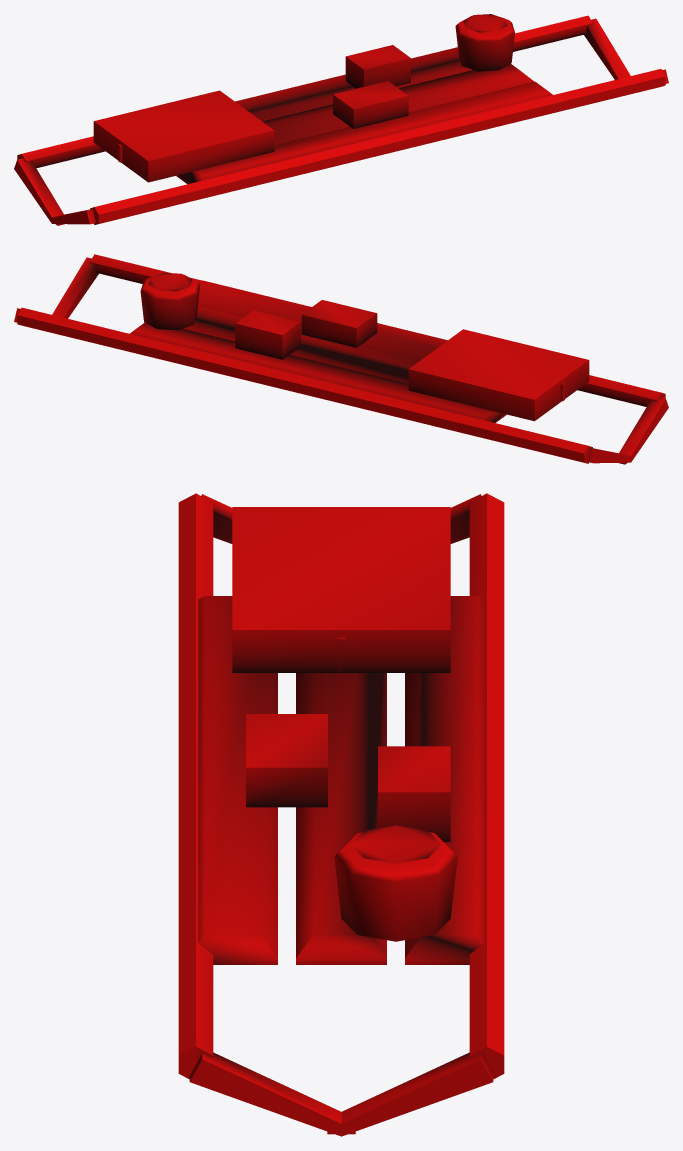
The model's file is CI_Bathroom_BathCaddy.glb.
The picture shows the model from 3 angles, top to bottom: view 1: azimuth 30°, elevation 25°; view 2: azimuth 150°, elevation 25°; view 3: azimuth 270°, elevation 25°; orthographic projection. The views are drawn at different scales.
Parts seen in each view (by area): view 1: CI_Bathroom_BathCaddy; view 2: CI_Bathroom_BathCaddy; view 3: CI_Bathroom_BathCaddy.
Part boxes in pixels (x1,y1,x2,y2): CI_Bathroom_BathCaddy: [14, 14, 668, 225]; CI_Bathroom_BathCaddy: [14, 254, 668, 464]; CI_Bathroom_BathCaddy: [178, 493, 504, 1136].
Bounding box in the file's own units: 0.7356 × 0.099 × 0.1791.
